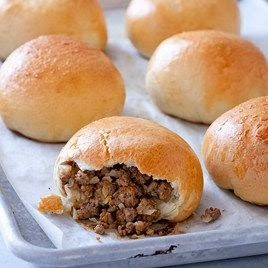hamburger_buns: (52, 111, 205, 230), (147, 33, 268, 118), (194, 97, 268, 204)
